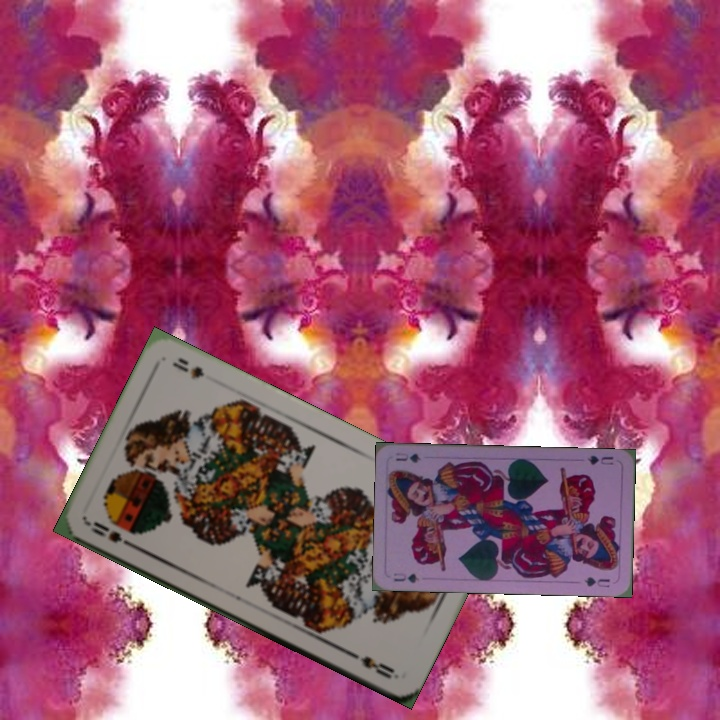GU: (583, 451, 616, 468), (390, 569, 422, 586)
SO: (83, 517, 139, 552)
